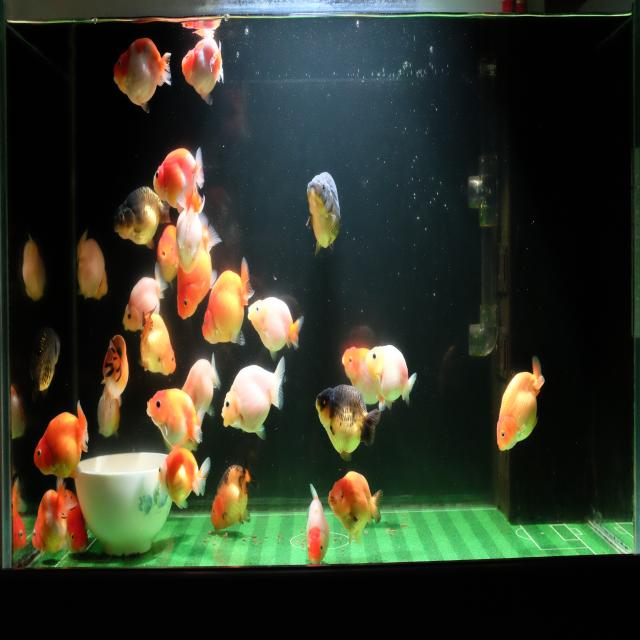Goldfish: (218, 351, 286, 442), (200, 256, 256, 349), (496, 352, 546, 456), (316, 383, 380, 462), (176, 214, 222, 322), (112, 36, 172, 116), (33, 398, 90, 482), (328, 468, 384, 549), (111, 183, 172, 252), (210, 451, 260, 534), (145, 384, 205, 453), (156, 446, 212, 510), (153, 144, 204, 214), (342, 344, 392, 415), (365, 342, 417, 410), (247, 293, 304, 355), (121, 260, 168, 335), (28, 476, 71, 556), (303, 168, 341, 258), (181, 36, 226, 111), (138, 301, 177, 380), (181, 353, 221, 426), (25, 318, 62, 396), (174, 186, 204, 275), (302, 482, 332, 566), (75, 229, 109, 303), (100, 332, 130, 411), (59, 484, 89, 556), (20, 227, 46, 303), (156, 223, 178, 287)
